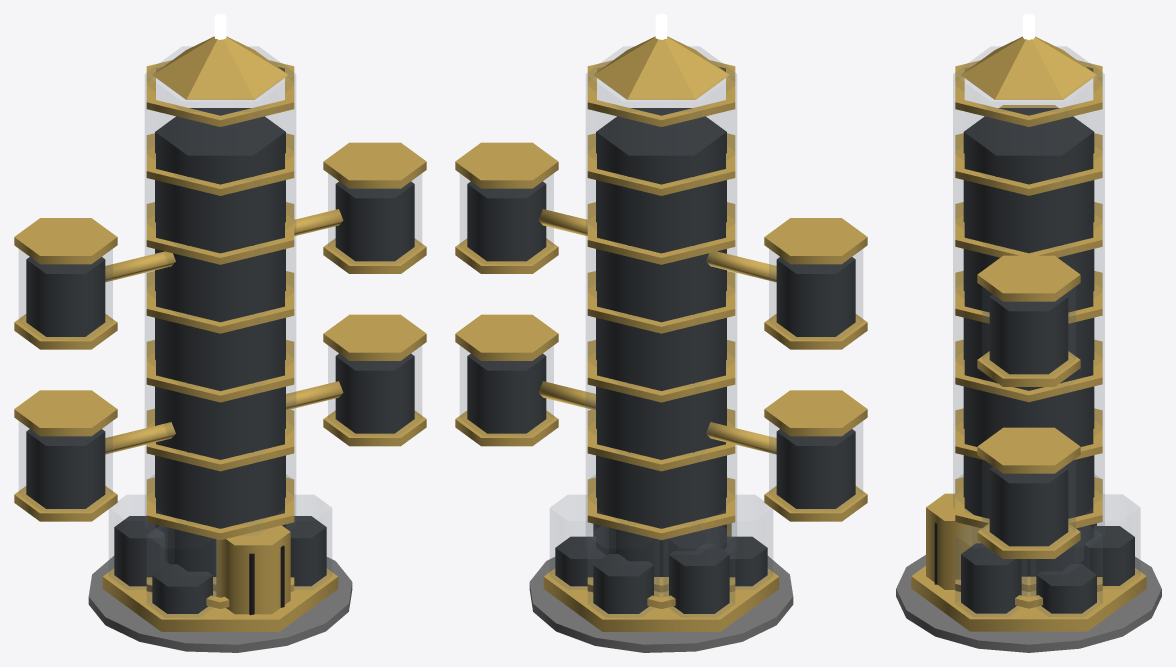
File: Skin_Hive_T4.glb
3 renders of one model, left to right at view 1: azimuth 30°, elevation 25°; view 2: azimuth 150°, elevation 25°; view 3: azimuth 270°, elevation 25°, orthographic.
Parts seen in each view (by area): view 1: Skin_Hive_T4; view 2: Skin_Hive_T4; view 3: Skin_Hive_T4.
Part boxes in pixels (box(x1,y1,x2,y2)): Skin_Hive_T4: box(14, 14, 426, 652); Skin_Hive_T4: box(455, 14, 867, 652); Skin_Hive_T4: box(896, 14, 1161, 652).
Bounding box in the file's own units: 5.88 × 8.43 × 3.5.
